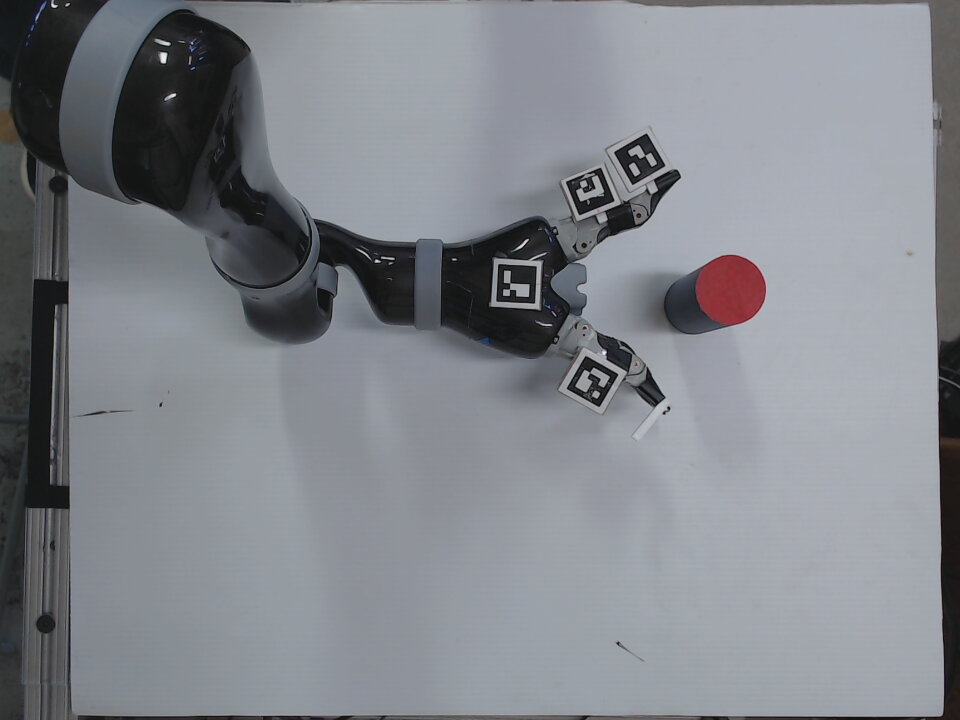cylinder: (660, 252, 770, 339)
